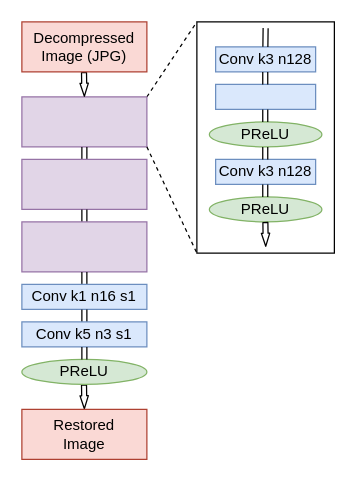
Some shapes in this 356 by 481 pixel diagram are drawn without their labels. Each missing label, with the centre of its shape:
"Conv k1 n128" belongs at (x=265, y=96).
"Conv Unit k3 n128" belongs at (x=84, y=121).
"Conv Unit k3 n32" belongs at (x=84, y=246).
"Conv Unit k3 n64" belongs at (x=84, y=183).
